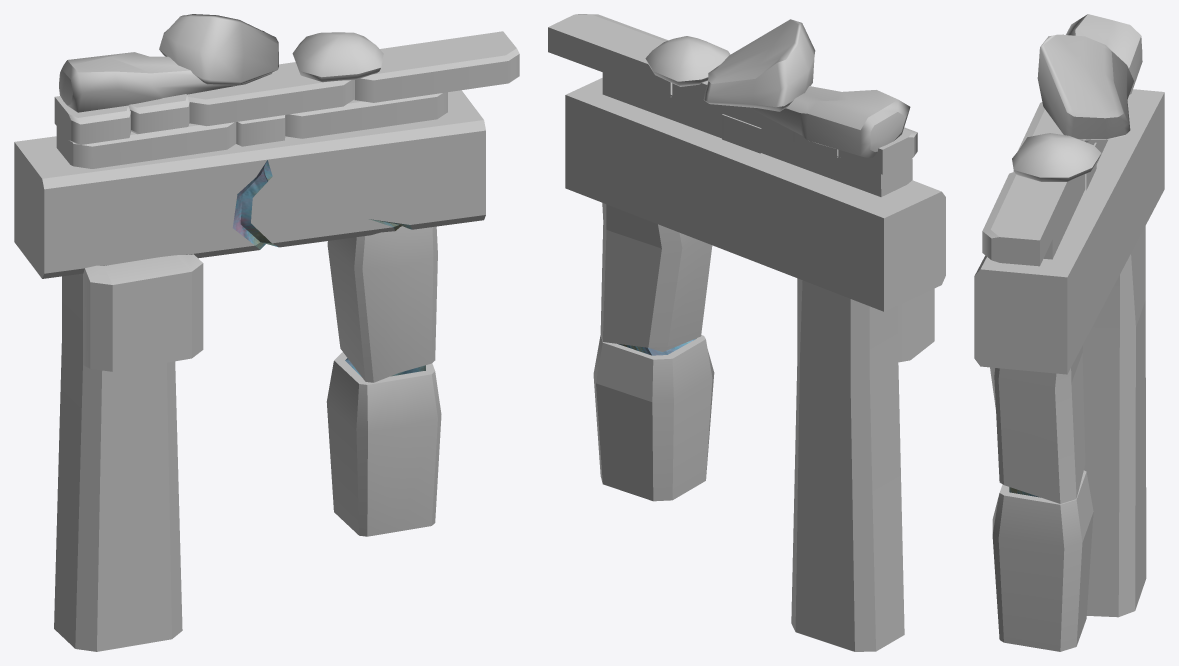
Rendered from Str_Ruins_01_Art.fbx.
The picture shows the model from 3 angles, left to right: view 1: azimuth 30°, elevation 25°; view 2: azimuth 150°, elevation 25°; view 3: azimuth 270°, elevation 25°; orthographic projection. The views are drawn at different scales.
Visible parts, largest first — view 1: Str_Ruins_01; view 2: Str_Ruins_01; view 3: Str_Ruins_01.
Part boxes in pixels (x1,y1,x2,y2): Str_Ruins_01: [14, 14, 519, 651]; Str_Ruins_01: [548, 14, 945, 651]; Str_Ruins_01: [974, 14, 1164, 651].
Size of what is drawn, in the model's own units: 668 by 884 by 257.
